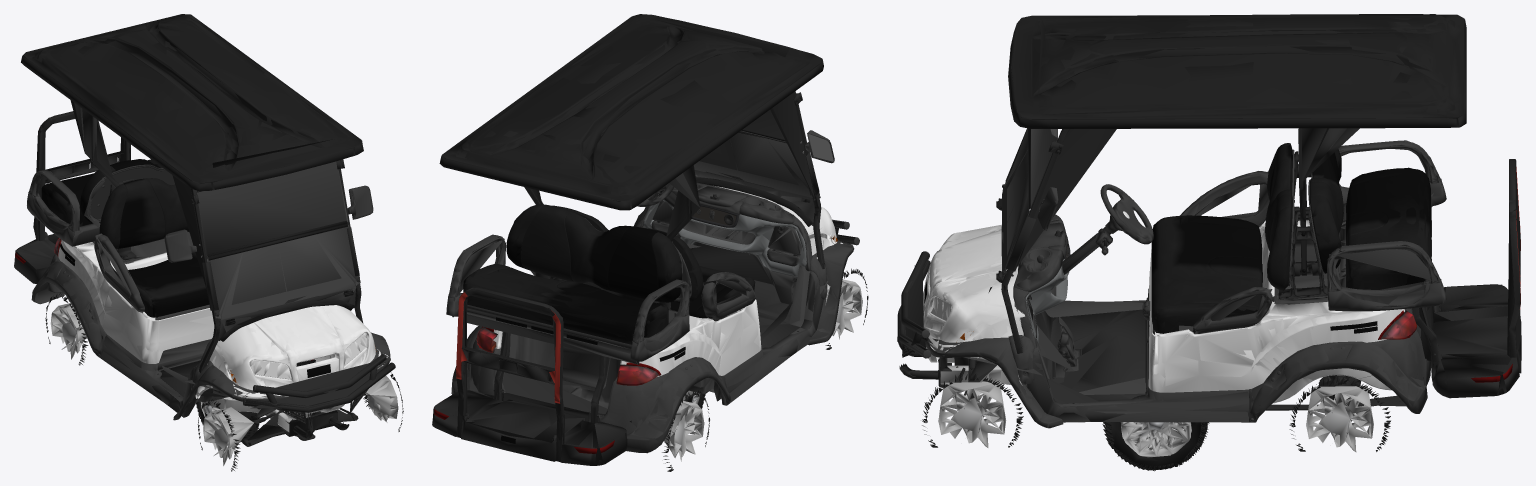
The model's file is golf1.glb.
3 renders of one model, left to right at view 1: azimuth 30°, elevation 25°; view 2: azimuth 150°, elevation 25°; view 3: azimuth 270°, elevation 25°, orthographic. The views are drawn at different scales.
Parts seen in each view (by area): view 1: body0, body2, body1, wheel0; view 2: body0, body1, body2; view 3: body0, body2, body1, wheel0, wheel1.
Part boxes in pixels (box(x1,y1,x2,y2)): body0: box(14, 14, 395, 446); body2: box(33, 100, 403, 471); body1: box(14, 14, 395, 446); wheel0: box(196, 401, 259, 444); body0: box(432, 14, 859, 465); body1: box(432, 14, 857, 465); body2: box(448, 20, 868, 471); body0: box(897, 14, 1521, 428); body2: box(898, 19, 1521, 452); body1: box(897, 14, 1520, 428); wheel0: box(1102, 422, 1209, 470); wheel1: box(1103, 422, 1208, 471).
Bounding box in the file's own units: 1.35 × 2.14 × 2.83.
